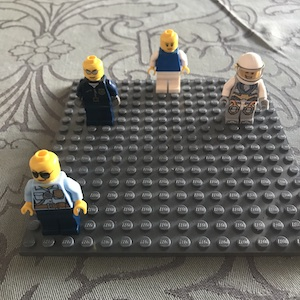Lego: (19, 148, 89, 234), (216, 51, 270, 124), (73, 54, 121, 125), (147, 29, 189, 95)
